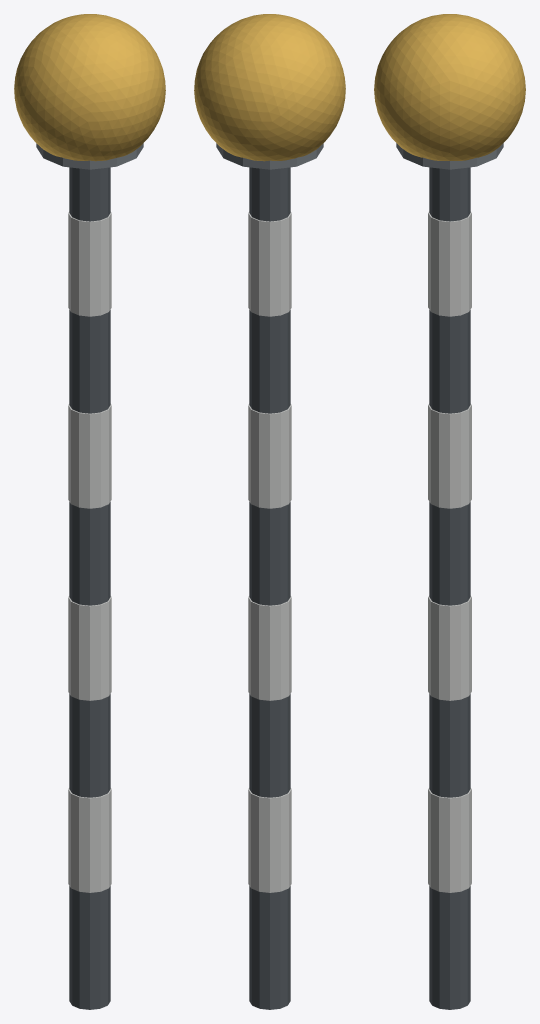
The model's file is batch-a-belisha-beacon.glb.
3 renders of one model, left to right at view 1: azimuth 30°, elevation 25°; view 2: azimuth 150°, elevation 25°; view 3: azimuth 270°, elevation 25°, orthographic.
Visible parts, largest first — view 1: part_0; view 2: part_0; view 3: part_0.
Boxes of the visible parts, x1=… form: part_0: x1=14, y1=14, x2=165, y2=1009; part_0: x1=194, y1=14, x2=345, y2=1009; part_0: x1=374, y1=14, x2=525, y2=1009.
Bounding box in the file's own units: 0.4801 × 3.42 × 0.4801.
